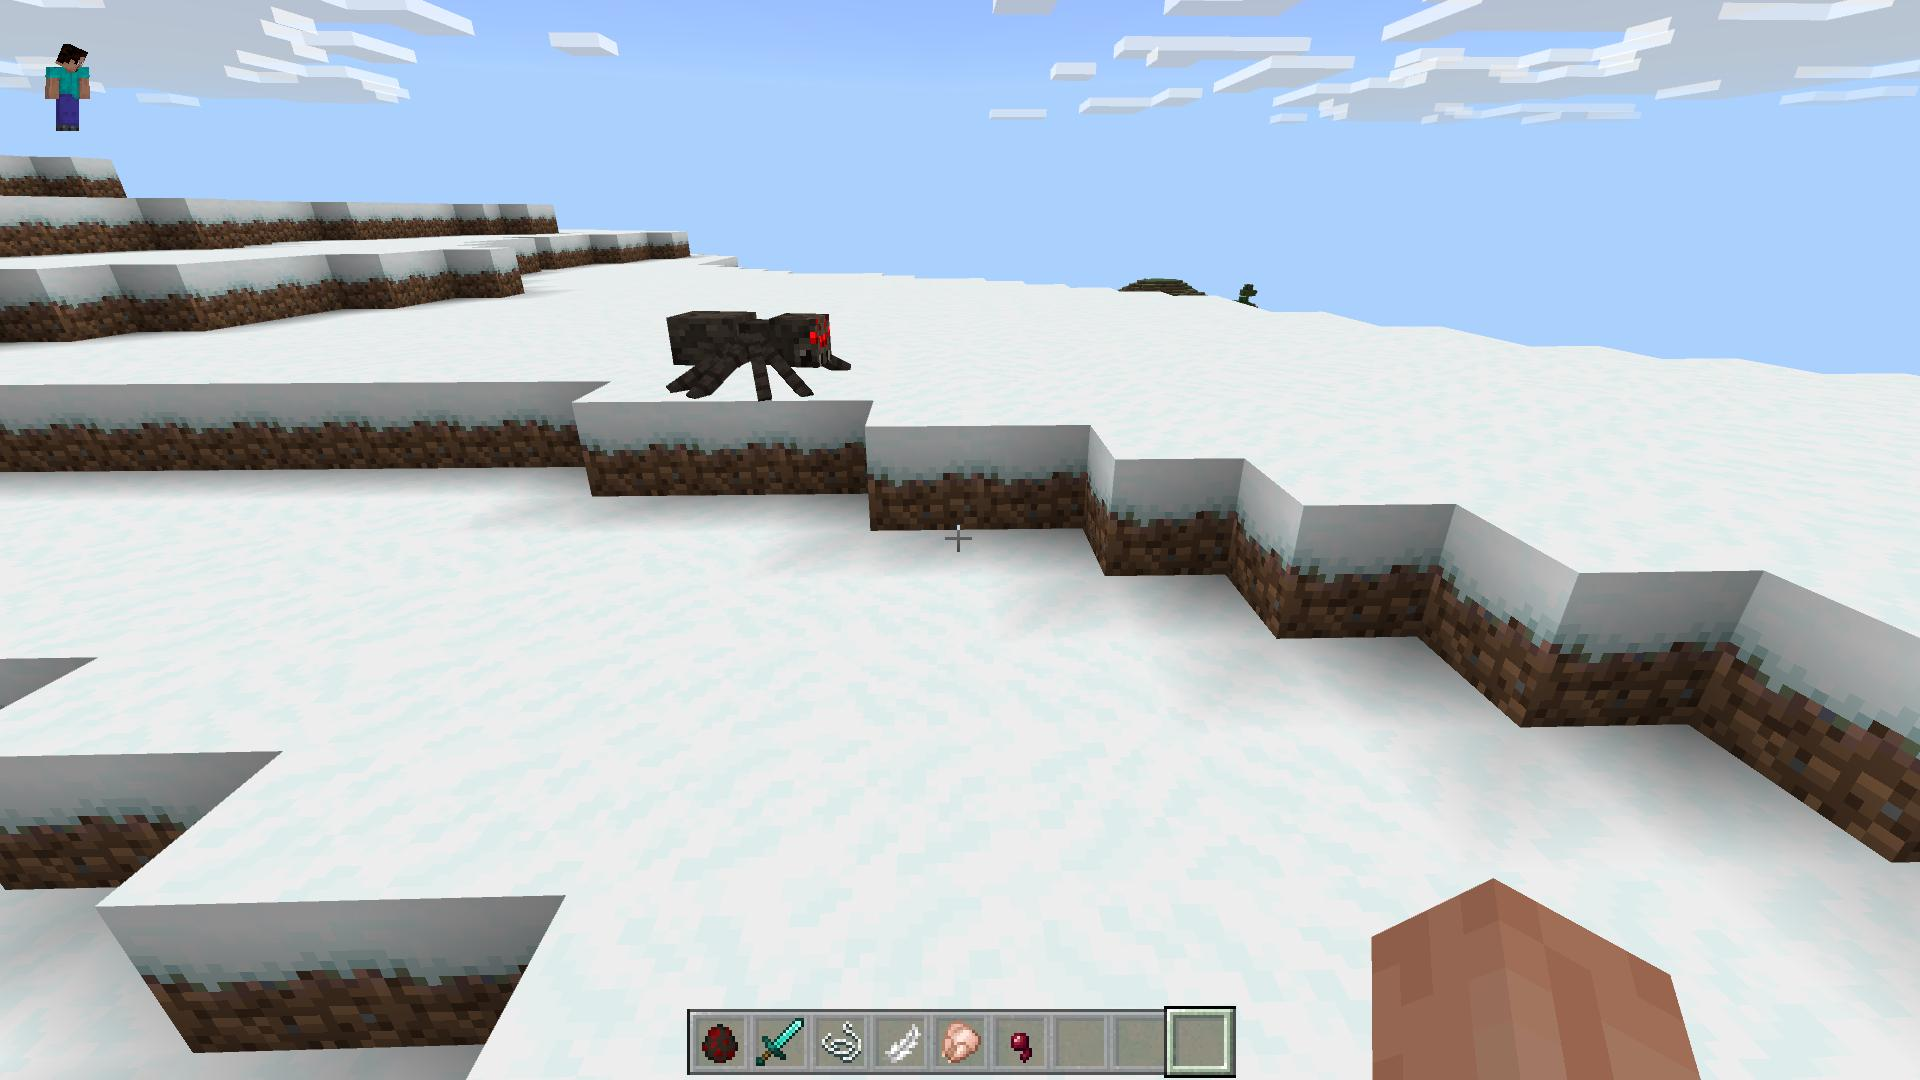spider: (663, 303, 856, 405)
